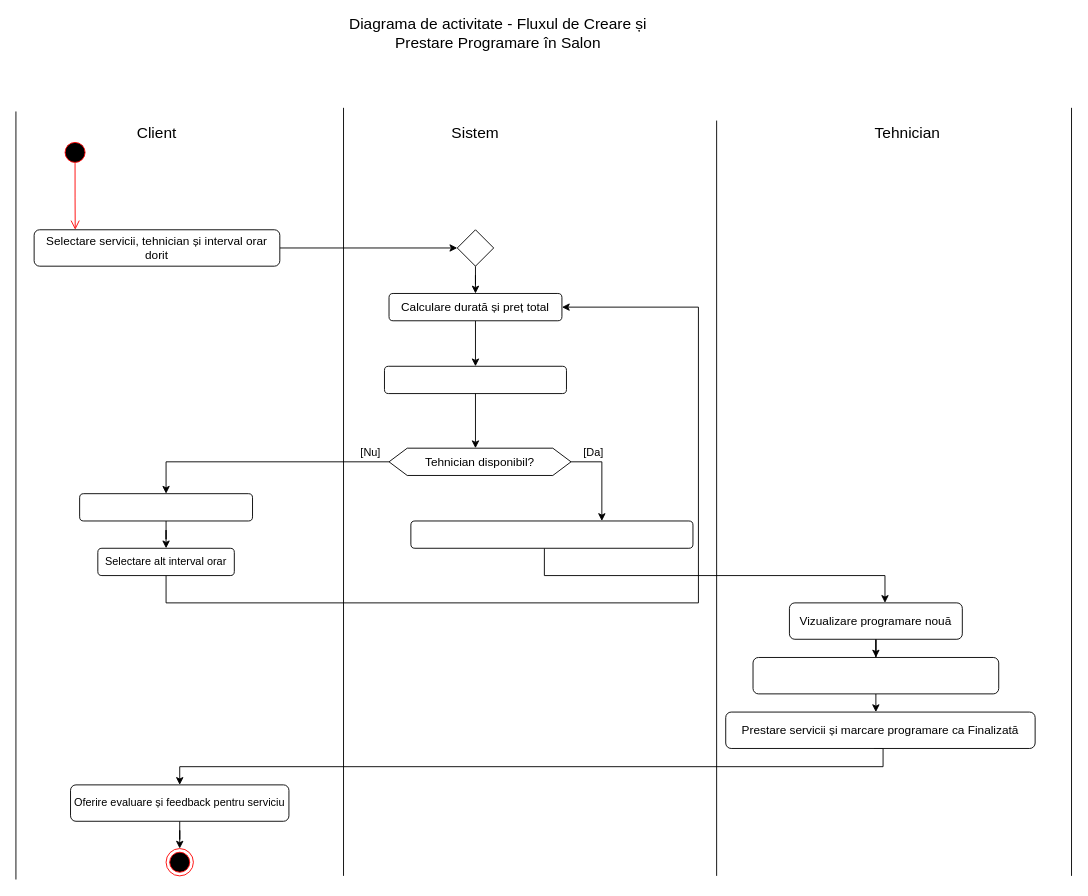
Image size: 1088x896. Some labels were removed from this diagram. Each missing label, with the centre of its shape:
"Consultare fișă și alergii declarate ale clientului" goes at point (875, 675).
"Salvare programare (Confirmată) și blocare interval" goes at point (551, 534).
"Verificare disponibilitate tehnician" goes at point (475, 379).
"Vizualizare mesaj indisponibilitate" goes at point (166, 507).
